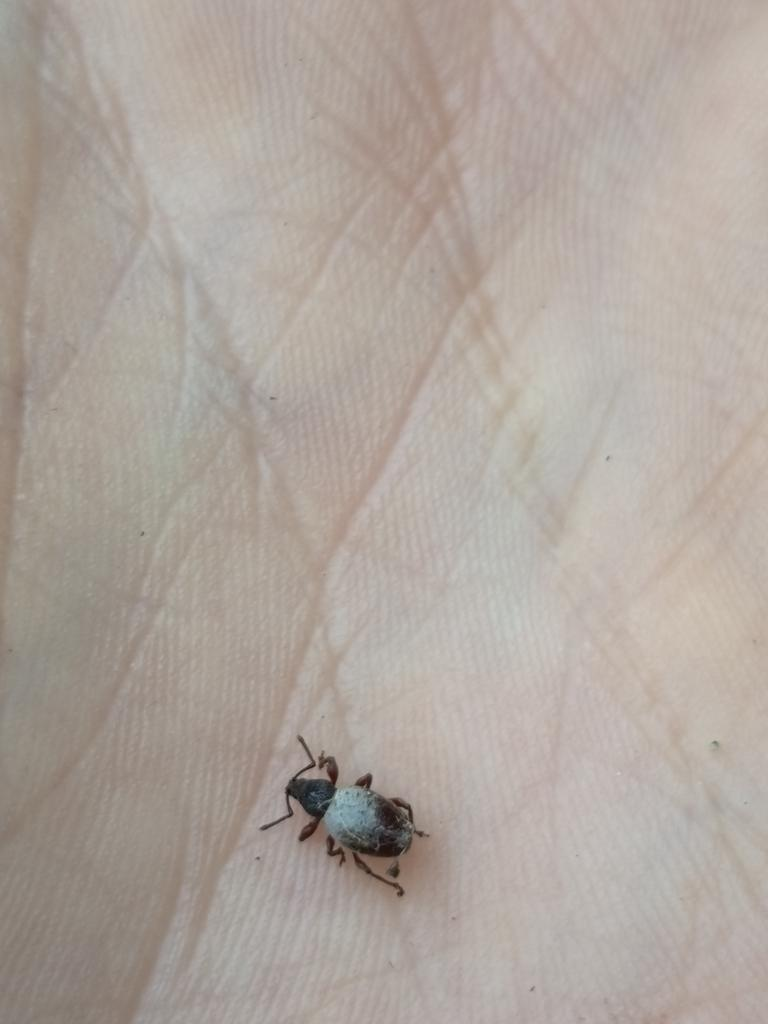weevils: (239, 707, 460, 937)
